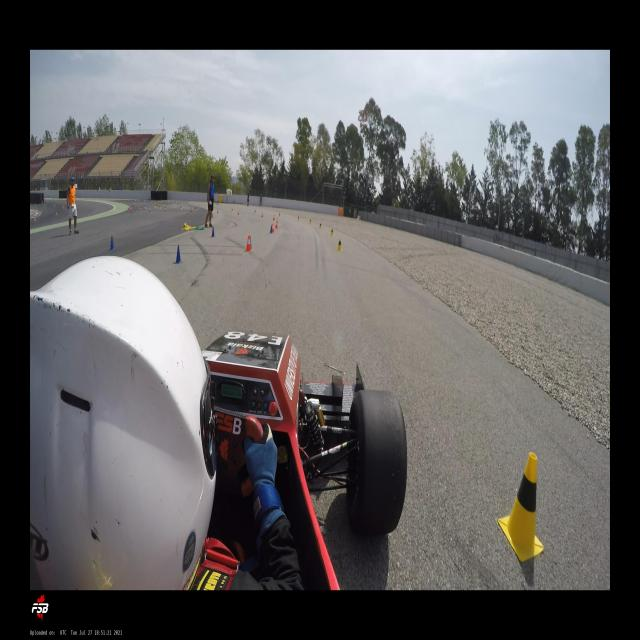orange_cone: (245, 235, 252, 252), (275, 220, 278, 228), (272, 224, 274, 232), (164, 207, 167, 212), (276, 217, 278, 224), (261, 212, 263, 218), (217, 208, 219, 214), (149, 207, 151, 212), (191, 208, 193, 212), (273, 215, 274, 220), (238, 210, 239, 215), (139, 207, 140, 211)
unknown_cone: (174, 244, 182, 264), (109, 236, 115, 250), (211, 226, 215, 238), (270, 224, 272, 233)
yellow_cone: (497, 452, 544, 562), (337, 238, 342, 251), (331, 229, 334, 236), (319, 223, 322, 229), (278, 212, 280, 217), (254, 209, 256, 214), (231, 208, 233, 212), (180, 206, 182, 210), (298, 215, 299, 221), (195, 206, 196, 211), (310, 220, 311, 224)
